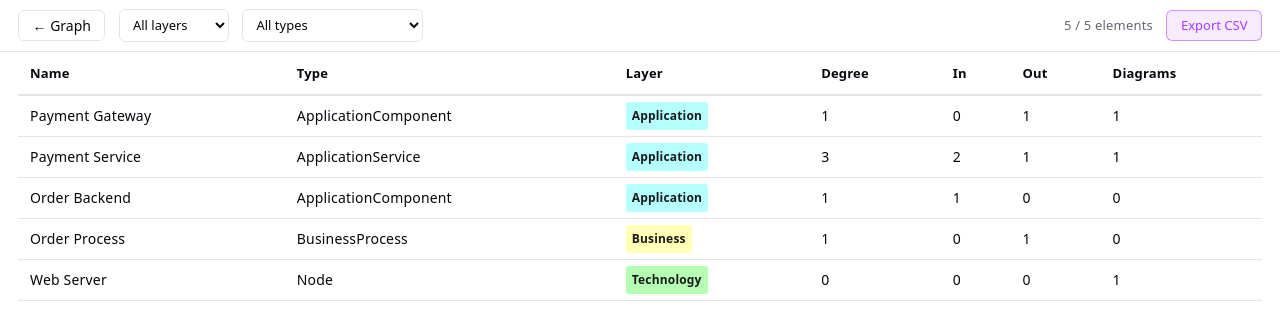
TableView › filtering by layer works
Step 1. Select "Technology" in the dropdown named "Filter by layer" → (174, 25), box [119,9,229,42]
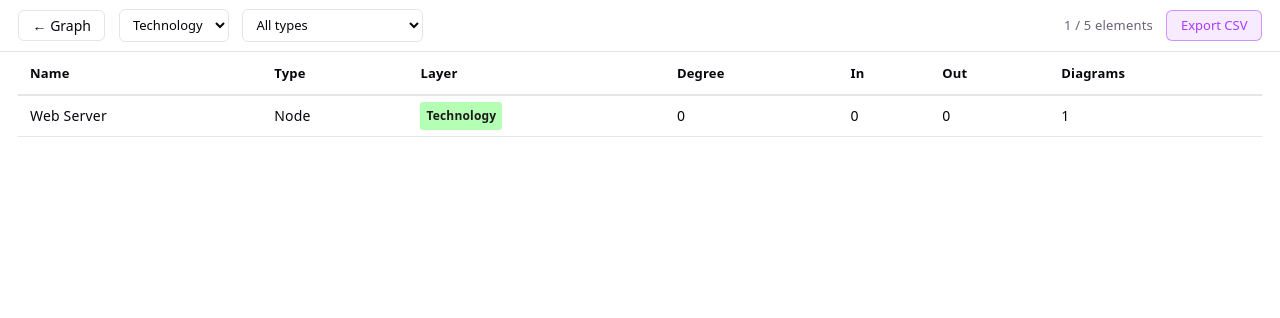
Expected: the text "Web Server" is shown, [18,95,262,136]
Now the number of rows is 2, box [18,52,1262,95]; [18,95,1262,136]
